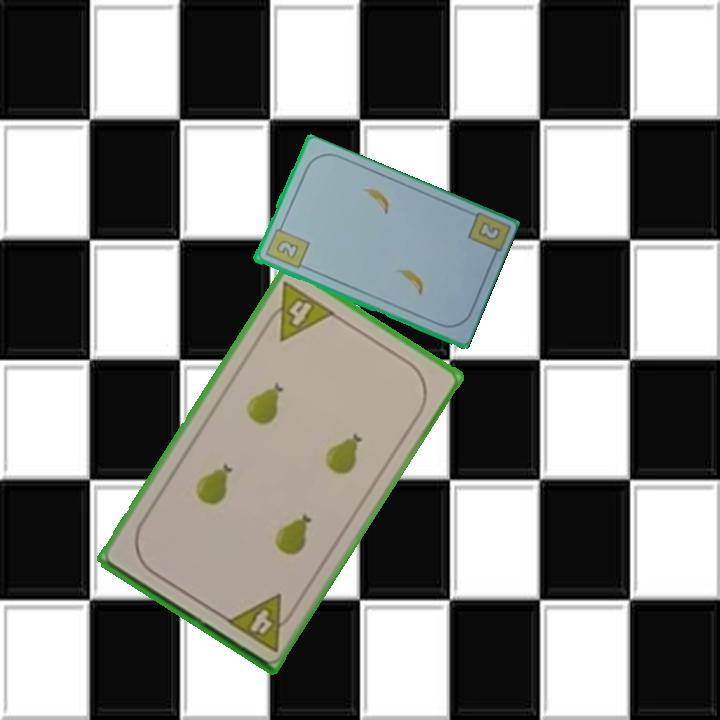2b: (261, 220, 311, 272), (474, 218, 503, 243)
4p: (259, 277, 338, 344), (222, 590, 300, 654)
